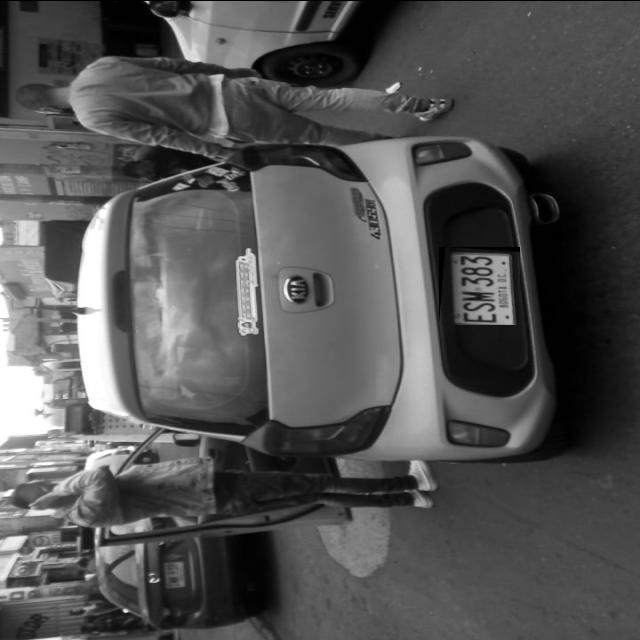plate: (445, 248, 520, 324)
